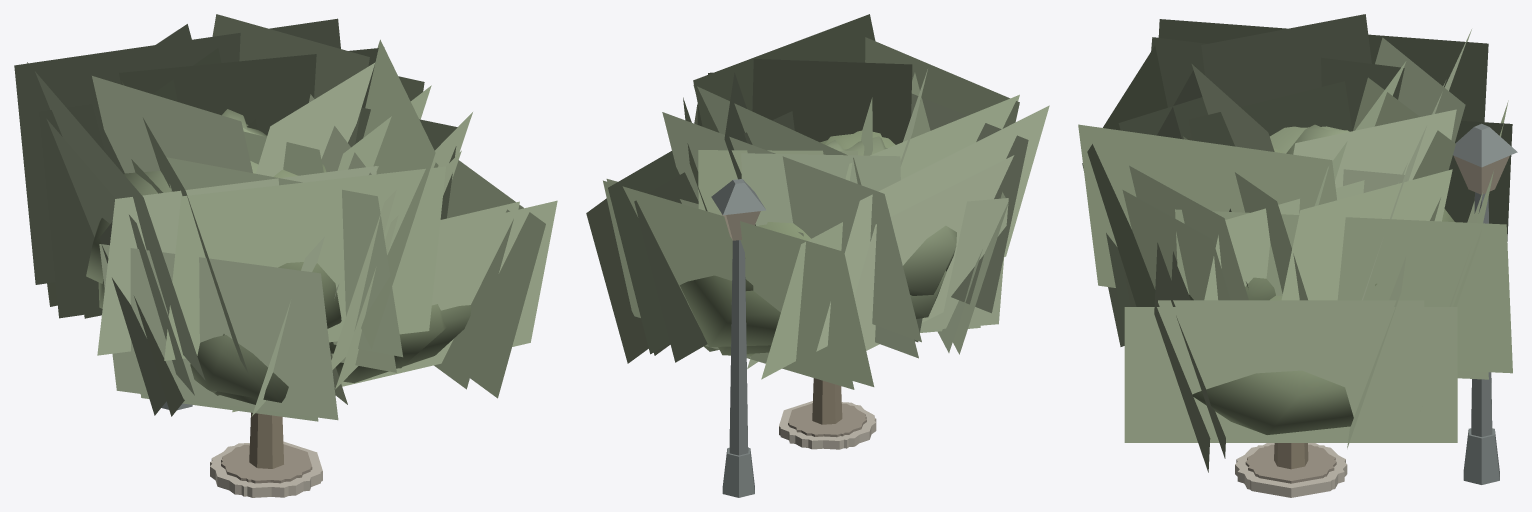
The model's file is avenue_0.glb.
3 renders of one model, left to right at view 1: azimuth 30°, elevation 25°; view 2: azimuth 150°, elevation 25°; view 3: azimuth 270°, elevation 25°, orthographic. The views are drawn at different scales.
Parts seen in each view (by area): view 1: Near, Mid, Far; view 2: Near, Mid, Far; view 3: Near, Mid, Far.
Part boxes in pixels (<box>): Near: <box>39,14,519,497</box>; Mid: <box>14,18,557,497</box>; Far: <box>210,304,446,496</box>; Near: <box>606,14,1028,497</box>; Mid: <box>586,72,1049,449</box>; Far: <box>745,222,876,448</box>; Near: <box>1078,14,1517,497</box>; Mid: <box>1082,19,1512,489</box>; Far: <box>1237,209,1454,487</box>.
Size of the model in its own units: 0.9559 by 0.9007 by 0.9002.
